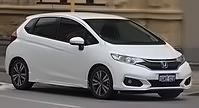Car hood: (105, 42, 184, 60)
Driver-s door - -F-R-: (53, 14, 85, 82)
Fender - -F-R-: (85, 38, 117, 89)
Fender - -R-R-: (8, 32, 30, 80)
Front bumper: (111, 64, 195, 94)
Headlight - -L-: (174, 52, 187, 65)
Headlight - -R-: (110, 52, 147, 66)
Passenger-s door - -R-R-: (28, 13, 56, 81)
Rear bumper: (3, 51, 12, 74)
Rear light - -R-: (6, 29, 19, 48)
Side bumper - -R-: (26, 76, 91, 91)
Side mirror - -R-: (68, 34, 87, 49)
